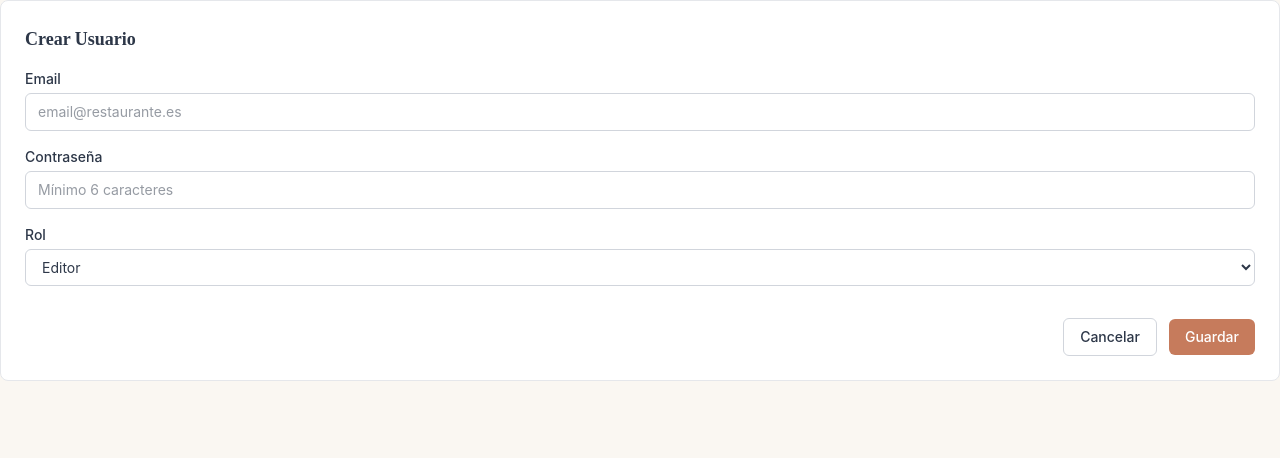
Test case: UsuarioForm (USR-001, USR-002) › shows validation error when password is empty in create mode
In the field with id "email": (640, 112) [25, 93, 1255, 131], type "cook@test.com"
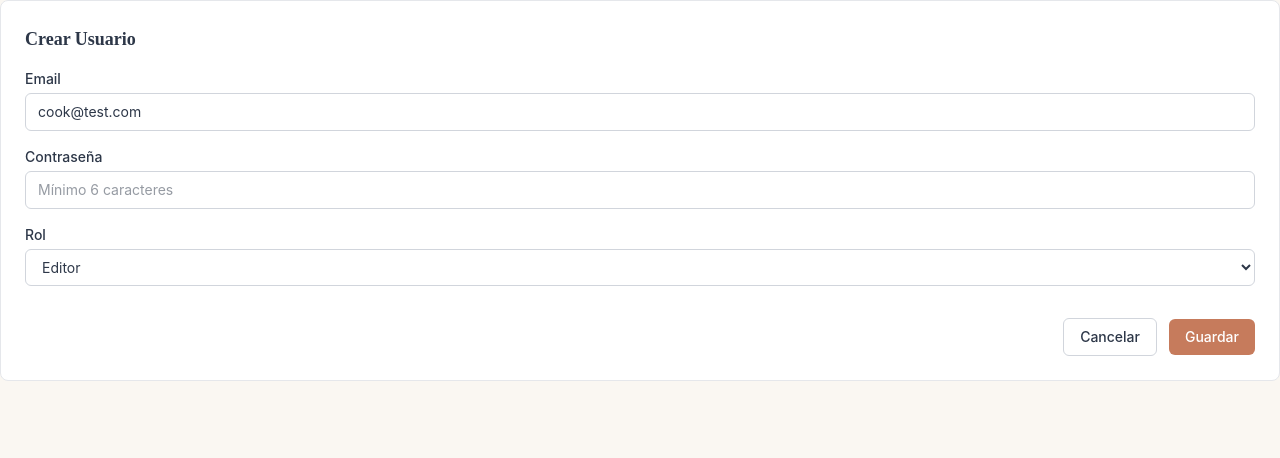
Submit the form
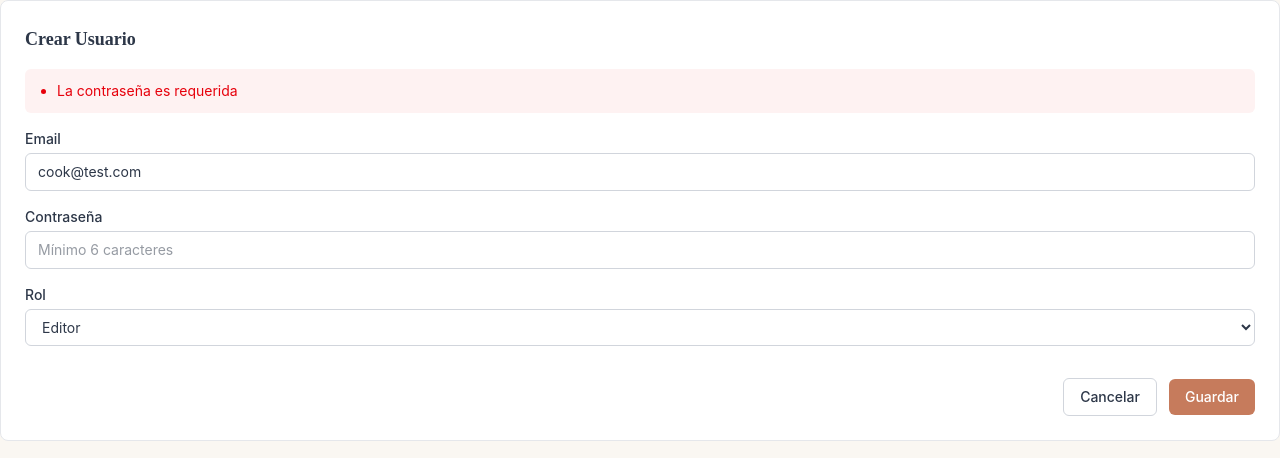
Result: the form shows "La contraseña es requerida" at [57, 82, 238, 99]
